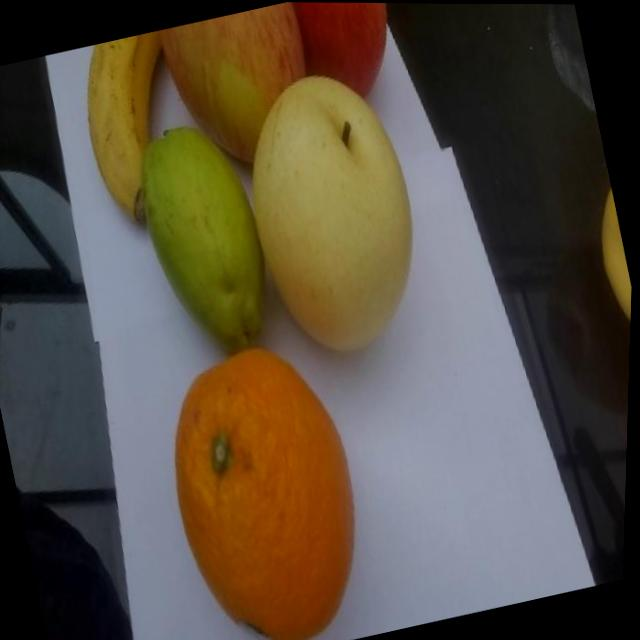Apple: (154, 1, 329, 180), (289, 2, 407, 108)
Orange: (146, 328, 391, 640)
